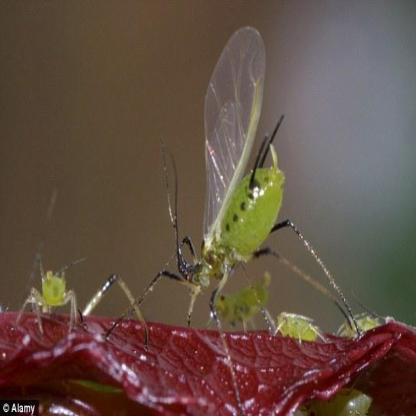aphid: (121, 13, 364, 345), (14, 248, 82, 340), (202, 261, 273, 331), (295, 369, 374, 416), (339, 290, 393, 338), (267, 304, 323, 346)
